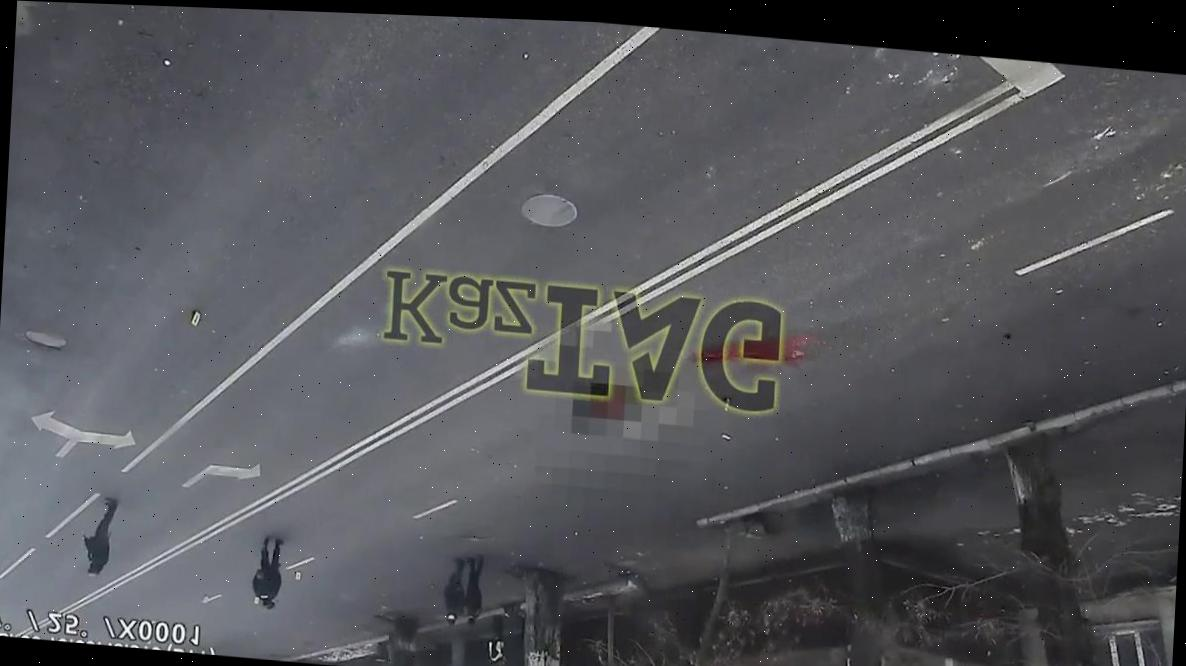person: (78, 493, 121, 579), (252, 536, 284, 611), (441, 557, 468, 627), (462, 553, 485, 625)
